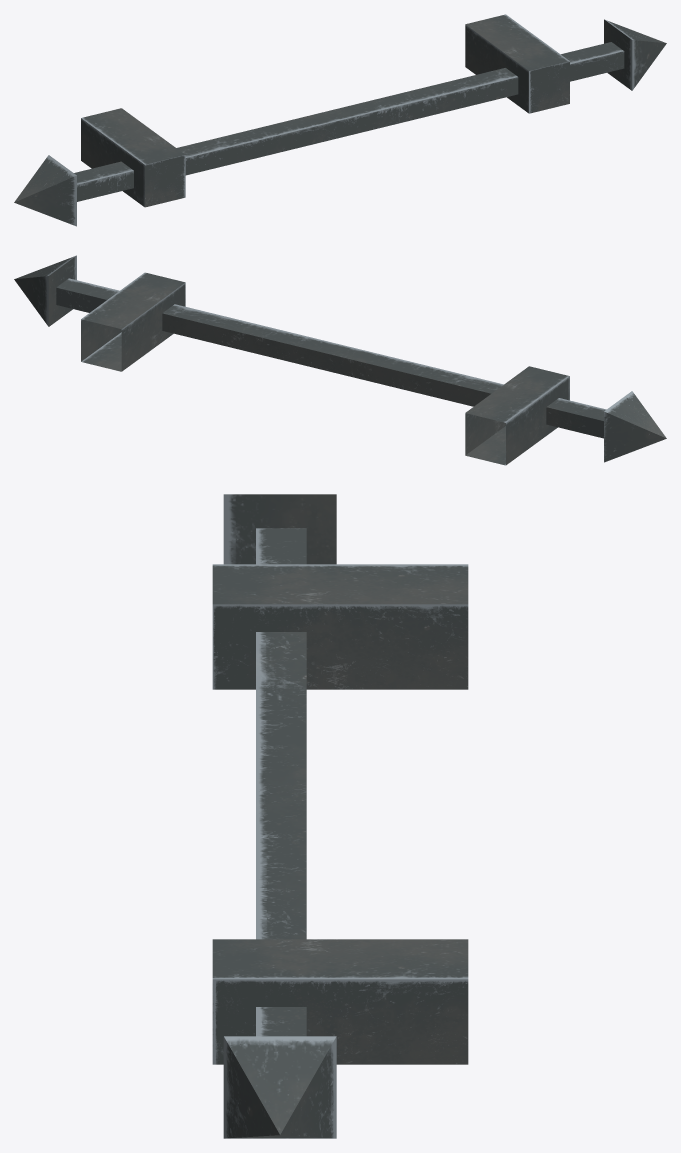
Rendered from Banner_Pole.fbx.
The picture shows the model from 3 angles, top to bottom: view 1: azimuth 30°, elevation 25°; view 2: azimuth 150°, elevation 25°; view 3: azimuth 270°, elevation 25°; orthographic projection. The views are drawn at different scales.
Visible parts, largest first — view 1: Banner_Pole; view 2: Banner_Pole; view 3: Banner_Pole.
Part boxes in pixels (x1,y1,x2,y2): Banner_Pole: (14,14,666,226); Banner_Pole: (14,255,666,465); Banner_Pole: (212,494,468,1138).
Bounding box in the file's own units: 293 × 21.92 × 49.71.
